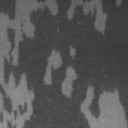red iron: (4, 0, 128, 128), (0, 84, 27, 119), (0, 0, 16, 18), (0, 113, 3, 122), (8, 122, 12, 128), (37, 0, 45, 2)
